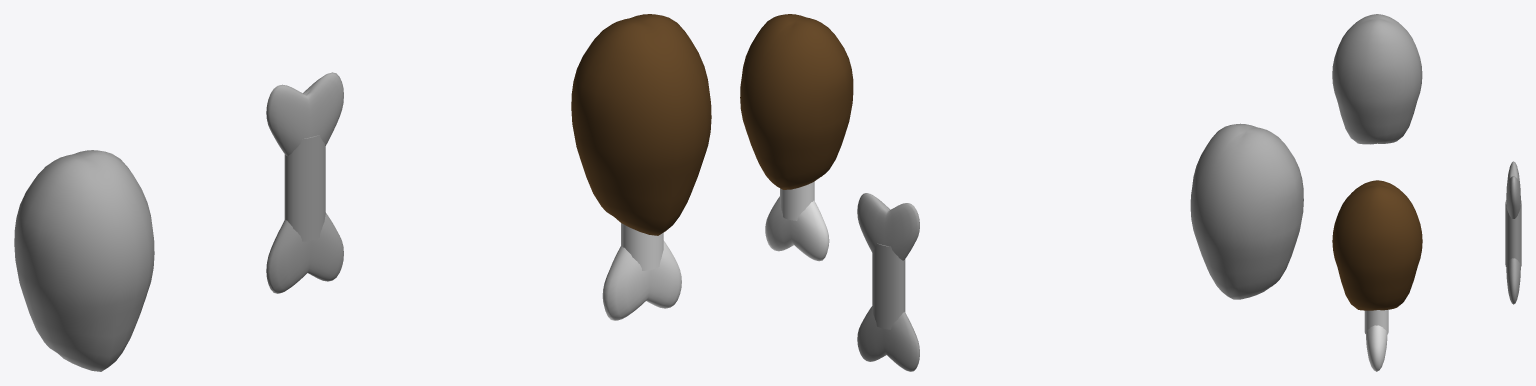
File: tavukbudu (1).fbx
3 renders of one model, left to right at view 1: azimuth 30°, elevation 25°; view 2: azimuth 150°, elevation 25°; view 3: azimuth 270°, elevation 25°, orthographic. The views are drawn at different scales.
Parts seen in each view (by area): view 1: pSphere2, pasted__pSphere4, group1_pasted__ffd1Lattice1, pSphere1, pasted__pSphere1, pCylinder1; view 2: pSphere2, pasted__pSphere4, group1_pasted__ffd1Lattice1, pSphere1, pasted__pSphere1, pCylinder1; view 3: pasted__pSphere4, pSphere2, group1_pasted__ffd1Lattice1, pCylinder1, pSphere1, pasted__pSphere1.
Boxes of the visible parts, box(x1,y1,x2,y2) form: pSphere2: box(14, 150, 154, 371); pasted__pSphere4: box(571, 14, 711, 235); group1_pasted__ffd1Lattice1: box(602, 223, 681, 320); pSphere1: box(266, 72, 343, 156); pasted__pSphere1: box(266, 212, 343, 293); pCylinder1: box(284, 135, 325, 241); pSphere2: box(1190, 123, 1303, 299); pasted__pSphere4: box(740, 14, 853, 189); group1_pasted__ffd1Lattice1: box(765, 181, 829, 261); pSphere1: box(857, 193, 919, 260); pasted__pSphere1: box(857, 306, 919, 371); pCylinder1: box(872, 243, 905, 329); pasted__pSphere4: box(1332, 180, 1422, 310); pSphere2: box(1332, 14, 1422, 144); group1_pasted__ffd1Lattice1: box(1364, 309, 1388, 371); pCylinder1: box(1505, 200, 1521, 266); pSphere1: box(1506, 161, 1520, 218); pasted__pSphere1: box(1506, 258, 1520, 304).
Size of the model in its own units: 1.75 by 0.7242 by 0.692.
